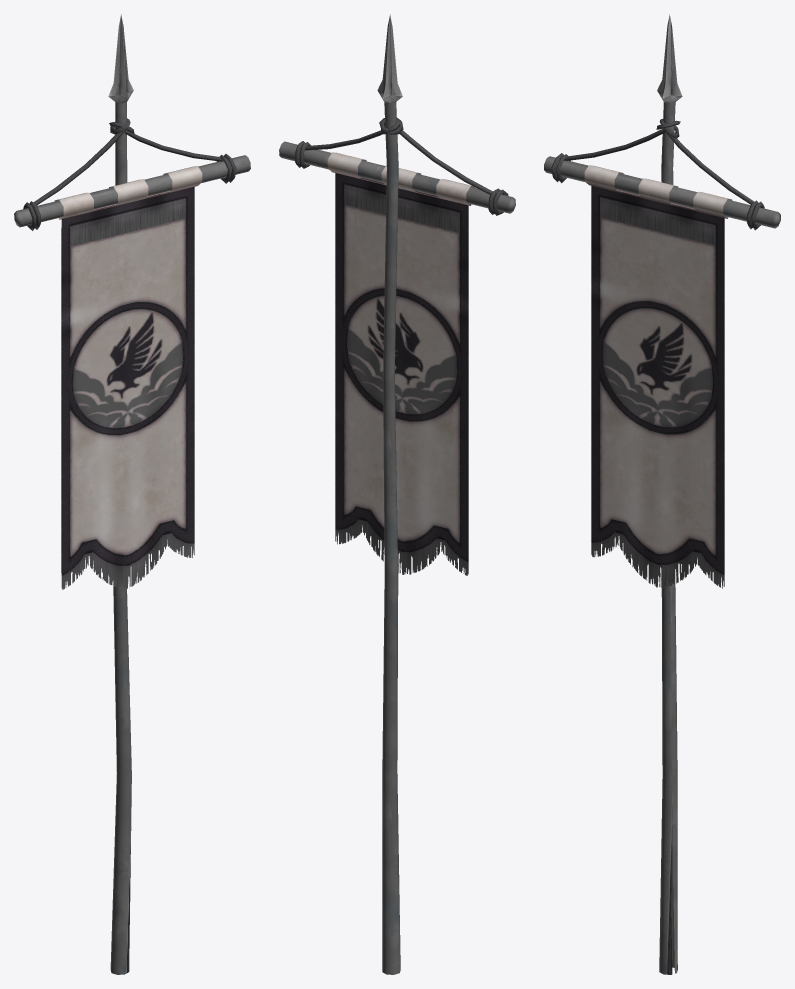
Rendered from flags_julian_small_01.fbx.
The picture shows the model from 3 angles, left to right: view 1: azimuth 30°, elevation 25°; view 2: azimuth 150°, elevation 25°; view 3: azimuth 330°, elevation 25°; orthographic projection.
Parts seen in each view (by area): view 1: flags_julian_small_01_xpbd, flags_julian_small_01_post; view 2: flags_julian_small_01_xpbd, flags_julian_small_01_post; view 3: flags_julian_small_01_xpbd, flags_julian_small_01_post.
Part boxes in pixels (bbox=[...]): flags_julian_small_01_xpbd: bbox=[54, 166, 202, 589]; flags_julian_small_01_post: bbox=[14, 14, 250, 974]; flags_julian_small_01_xpbd: bbox=[327, 152, 475, 575]; flags_julian_small_01_post: bbox=[279, 14, 515, 974]; flags_julian_small_01_xpbd: bbox=[584, 165, 732, 588]; flags_julian_small_01_post: bbox=[544, 14, 780, 974].
Size of the model in its own units: 161 by 625 by 27.89.
